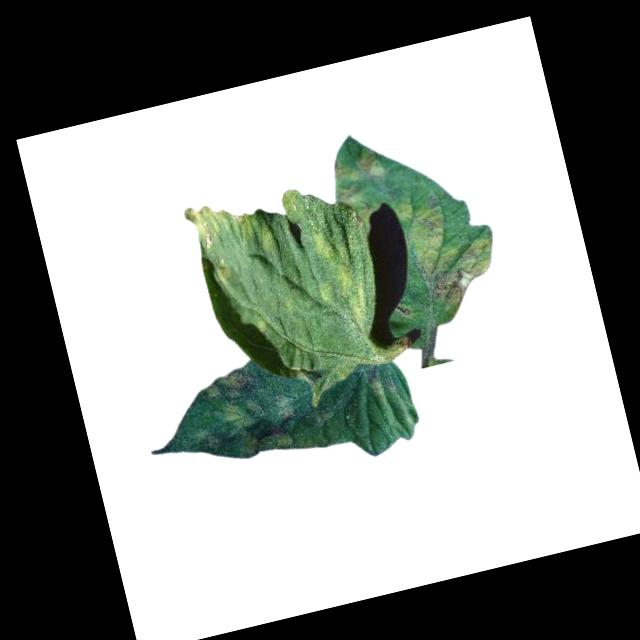Leaf_Mold: (394, 186, 504, 316), (185, 355, 300, 469), (304, 224, 370, 335), (182, 190, 257, 255), (323, 144, 393, 205), (212, 254, 239, 283)
